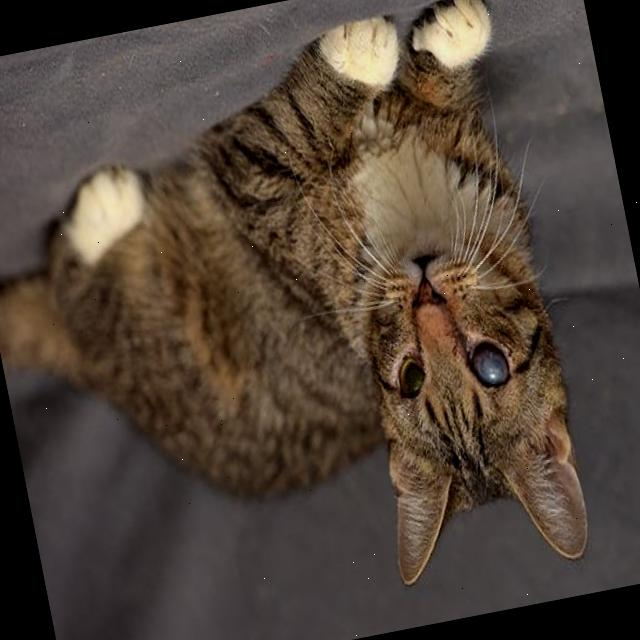cat-eye: (462, 339, 517, 397)
cat-eye-normal: (387, 348, 437, 408)
